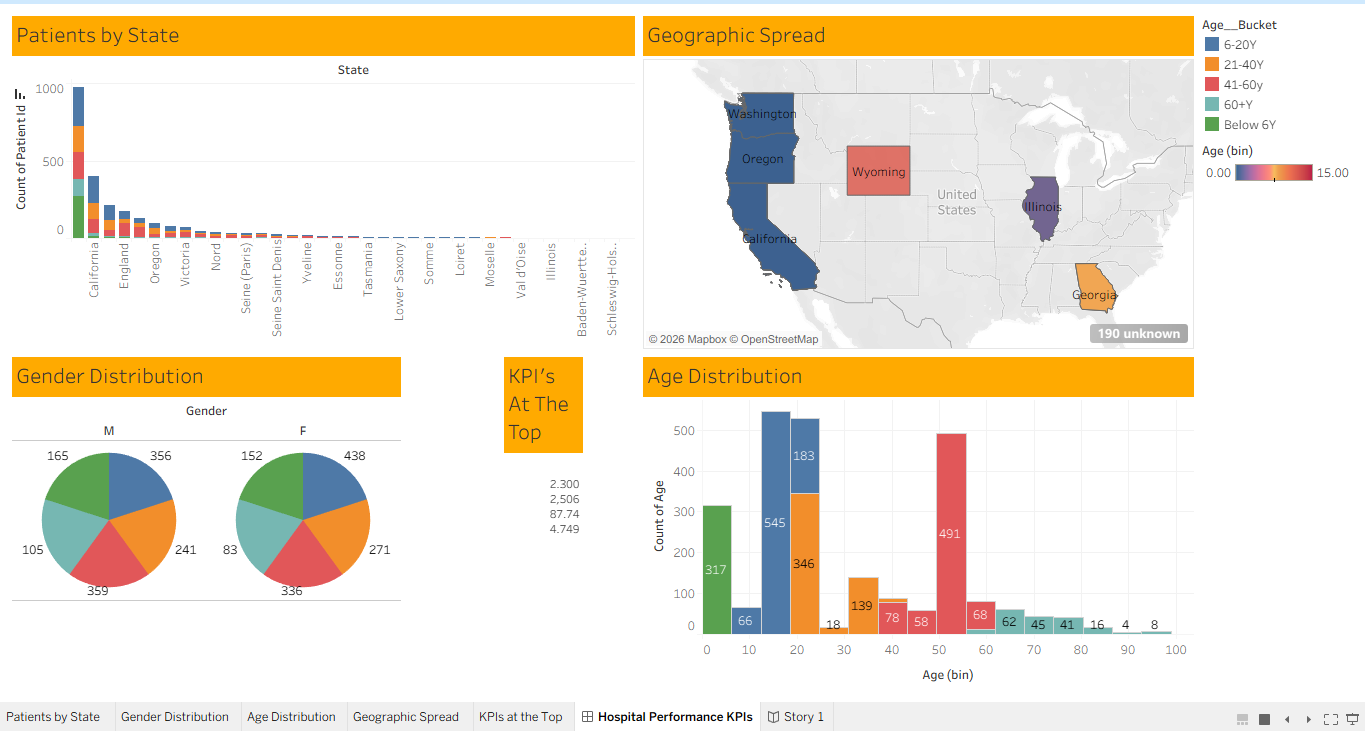

The page's visual inventory and layout, read from the dashboard file:
{"tool":"tableau","page":{"name":"Hospital Performance KPIs","canvas":[1000,1000],"units":"permille","ordinal":0},"visuals":[{"type":"worksheet","title":"Patients by State ","mark":"Automatic","rows":["patient_id"],"cols":["state"],"box":[6.9,14.7,449.4,485.3]},{"type":"worksheet","title":"Geographic Spread ","mark":"Multipolygon","box":[456.3,14.7,398.3,485.3]},{"type":"legend","title":"Patients by State ","param":"[federated.0get6ma0ek82bc1cff8zc0ebvdse].[none:age__bucket:nk]","box":[854.5,14.7,138.5,231.6]},{"type":"legend","title":"Geographic Spread ","param":"[federated.0get6ma0ek82bc1cff8zc0ebvdse].[none:Age (bin):qk]","box":[854.5,246.3,138.5,119.5]},{"type":"worksheet","title":"Gender Distribution","mark":"Pie","cols":["gender"],"box":[6.9,500,350.7,485.3]},{"type":"worksheet","title":"KPIs at the Top","mark":"Automatic","box":[357.6,500,98.7,485.3]},{"type":"worksheet","title":"Age Distribution","mark":"Automatic","rows":["age"],"cols":["Age (bin)"],"box":[456.3,500,398.3,485.3]}]}

Visuals, with their boxes on the dashboard's canvas, which has no fixed pixel size, in thousandths of its width and height (x1, y1, x2, y2). These are canvas units, not pixel positions in the 1365x731 screenshot, which may show the page scaled, cropped or inside an application window:
"Patients by State " worksheet: rect(7, 15, 456, 500)
"Geographic Spread " worksheet (Multipolygon marks): rect(456, 15, 855, 500)
"Patients by State " legend: rect(854, 15, 993, 246)
"Geographic Spread " legend: rect(854, 246, 993, 366)
"Gender Distribution" worksheet (Pie marks): rect(7, 500, 358, 985)
"KPIs at the Top" worksheet: rect(358, 500, 456, 985)
"Age Distribution" worksheet: rect(456, 500, 855, 985)
